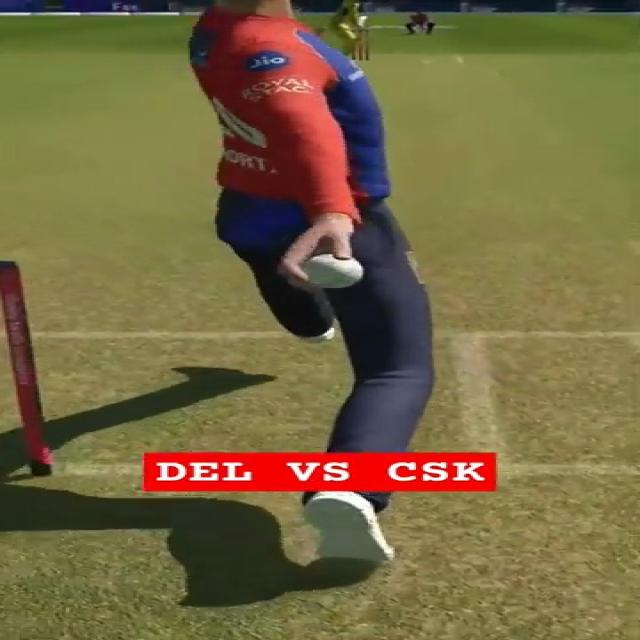ball: (302, 251, 366, 290)
